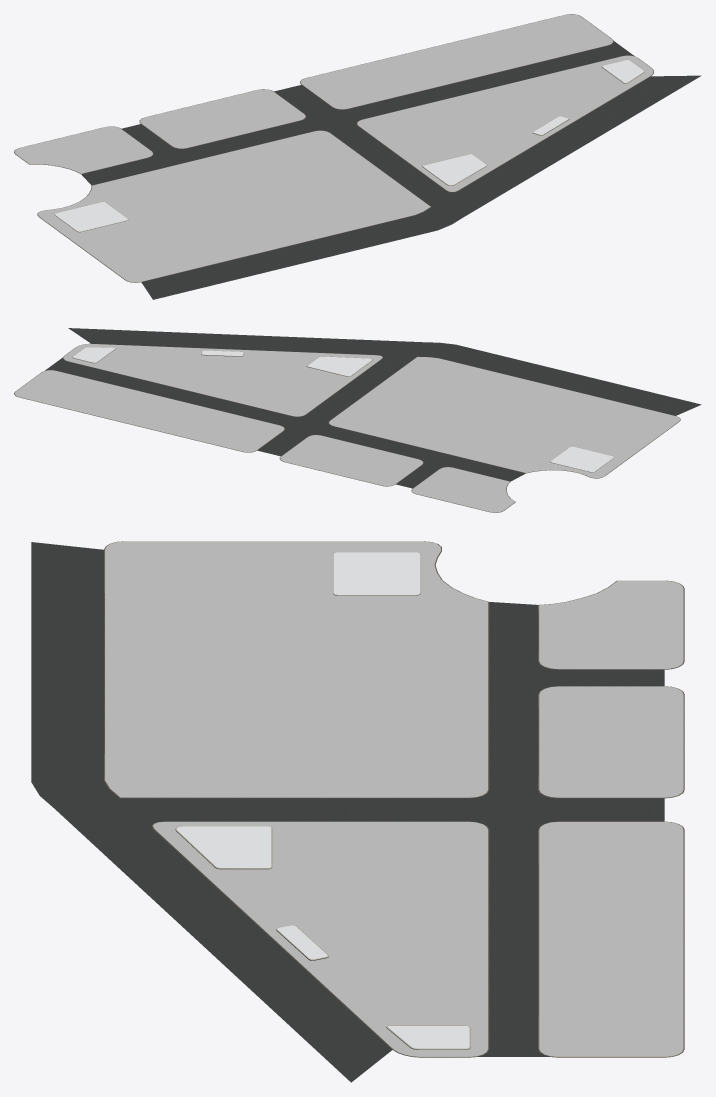
File: Area_29.fbx
3 views of the same model, one above another, from view 1: azimuth 30°, elevation 25°; view 2: azimuth 150°, elevation 25°; view 3: azimuth 270°, elevation 25° (orthographic). The views are drawn at different scales.
Parts seen in each view (by area): view 1: Area_29; view 2: Area_29; view 3: Area_29.
Part boxes in pixels (x1=…): Area_29: x1=14, y1=14, x2=701, y2=299; Area_29: x1=14, y1=328, x2=701, y2=512; Area_29: x1=31, y1=541, x2=684, y2=1082.
Bounding box in the file's own units: 32100 × 31.39 × 16374.
